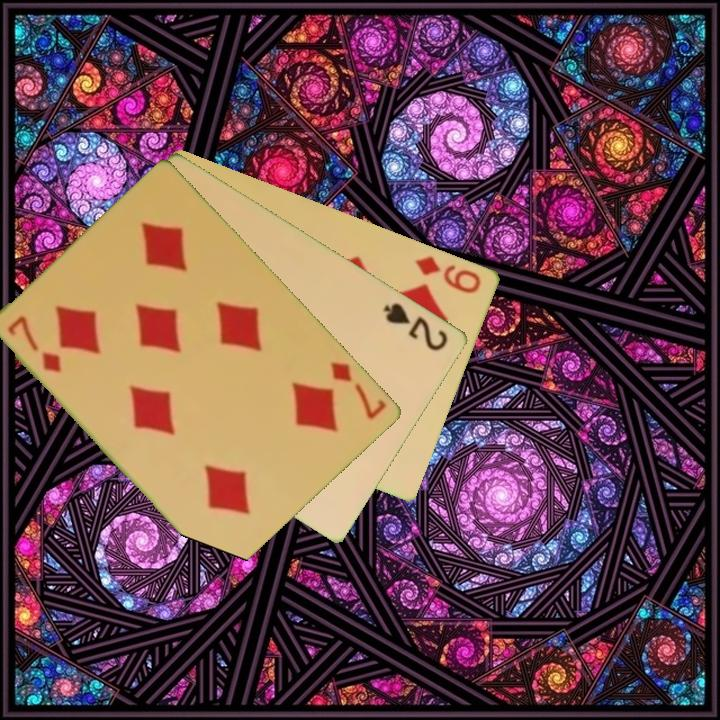2s: (380, 299, 451, 354)
7d: (327, 358, 390, 423), (4, 312, 65, 376)
9d: (412, 252, 485, 297)
